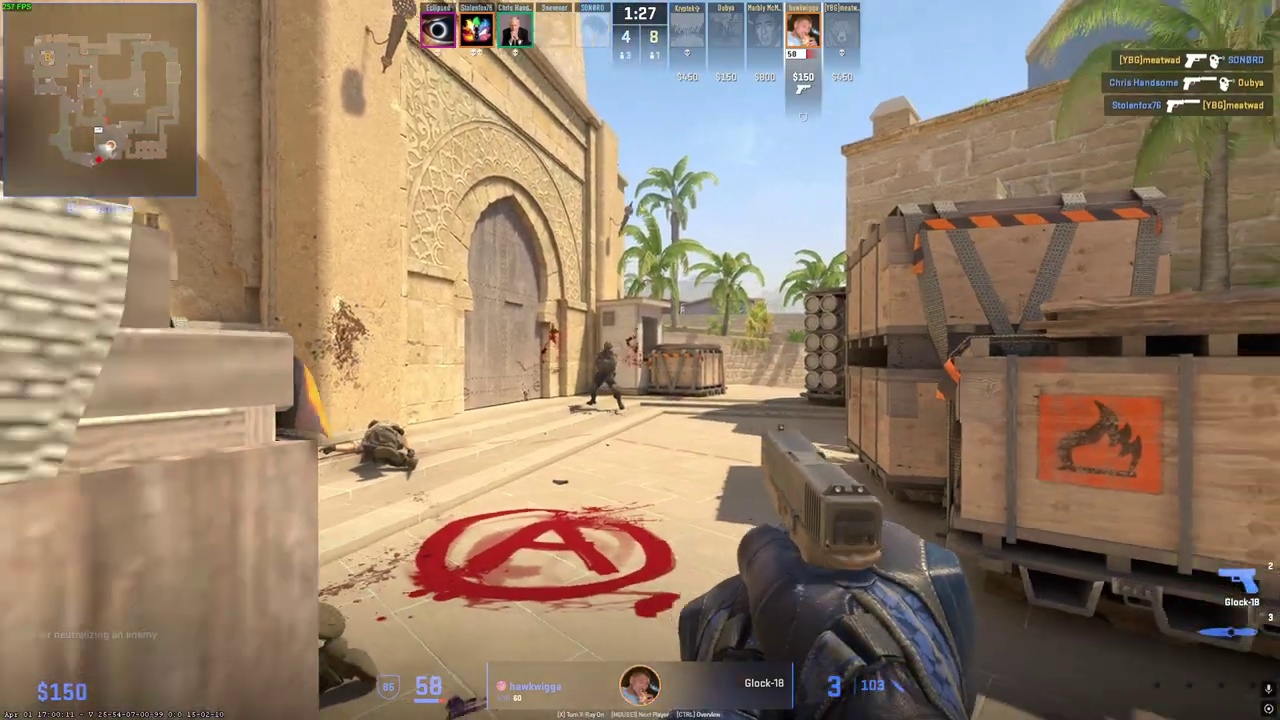CT: (587, 342, 624, 412)
